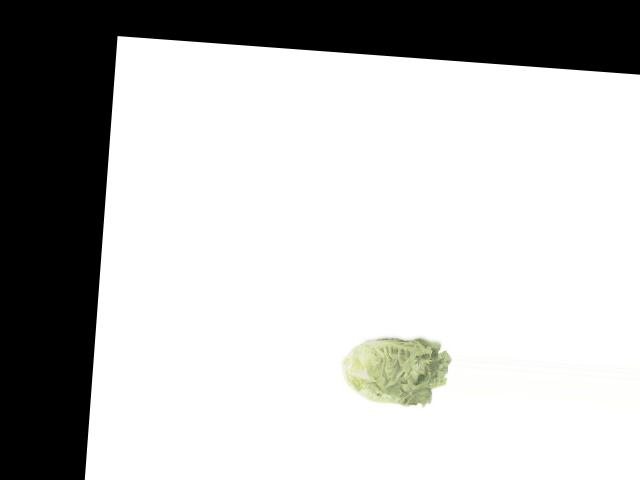lettuce: (338, 328, 450, 415)
